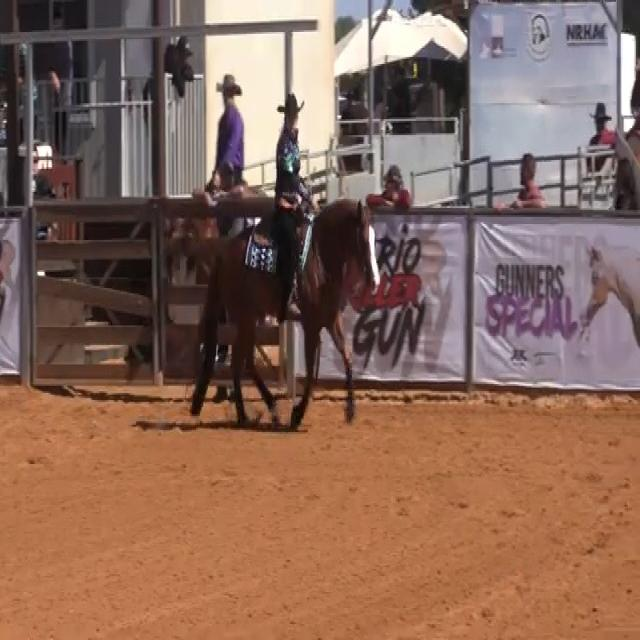horse: (186, 194, 381, 430)
